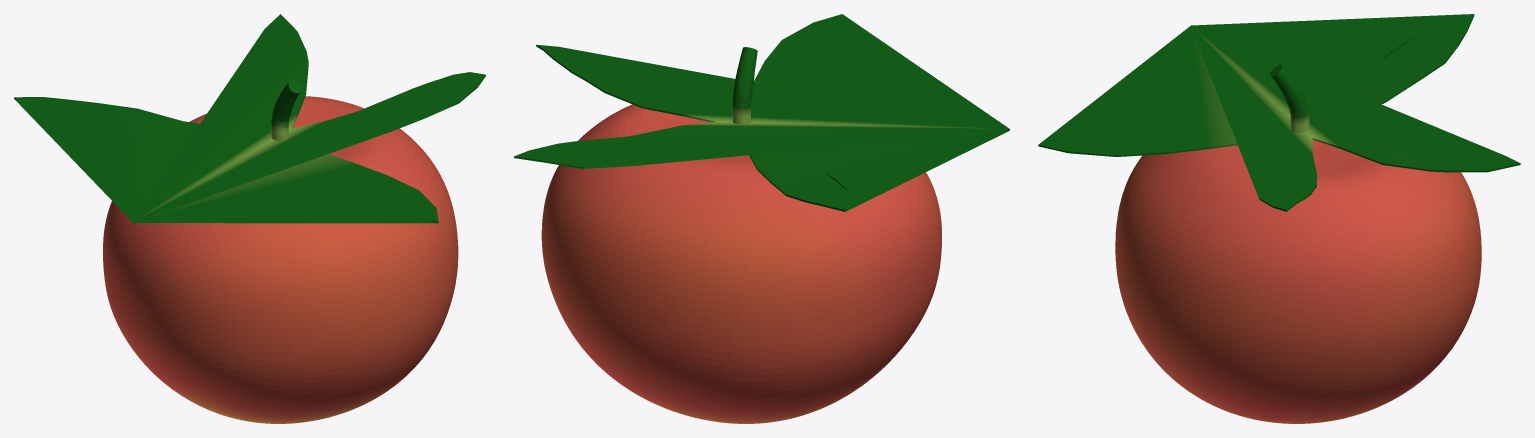
File: cherry_tomato.fbx
3 views of the same model, side by side, from view 1: azimuth 30°, elevation 25°; view 2: azimuth 150°, elevation 25°; view 3: azimuth 270°, elevation 25° (orthographic). The views are drawn at different scales.
Visible parts, largest first — view 1: Sphere; view 2: Sphere; view 3: Sphere.
Part boxes in pixels (bbox=[...]): Sphere: bbox=[14, 14, 485, 423]; Sphere: bbox=[514, 14, 1009, 423]; Sphere: bbox=[1038, 14, 1520, 423].
Bounding box in the file's own units: 128 × 101 × 129.
